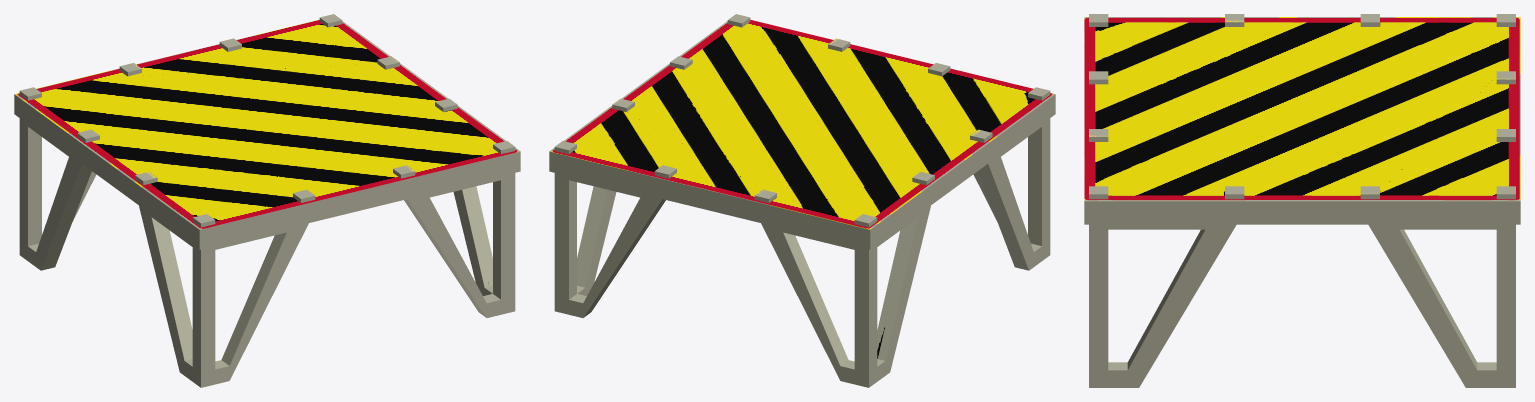
Rendered from roller_runway.fbx.
3 views of the same model, side by side, from view 1: azimuth 30°, elevation 25°; view 2: azimuth 150°, elevation 25°; view 3: azimuth 270°, elevation 25° (orthographic). The views are drawn at different scales.
Parts seen in each view (by area): view 1: Cube.001; view 2: Cube.001; view 3: Cube.001.
Boxes of the visible parts, box(x1,y1,x2,y2) form: Cube.001: box(14, 14, 520, 387); Cube.001: box(549, 14, 1055, 387); Cube.001: box(1084, 14, 1520, 387).
Size of the model in its own units: 1124 by 550 by 1124.
1 material, 1 textured.
